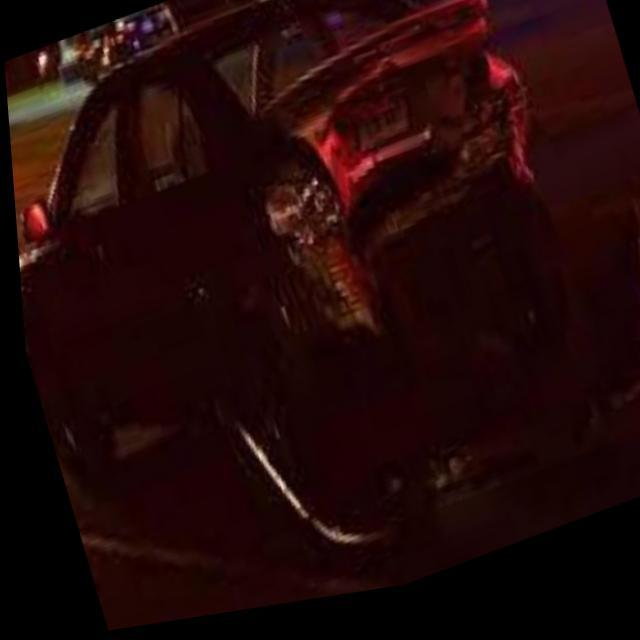crash: (235, 6, 533, 385)
